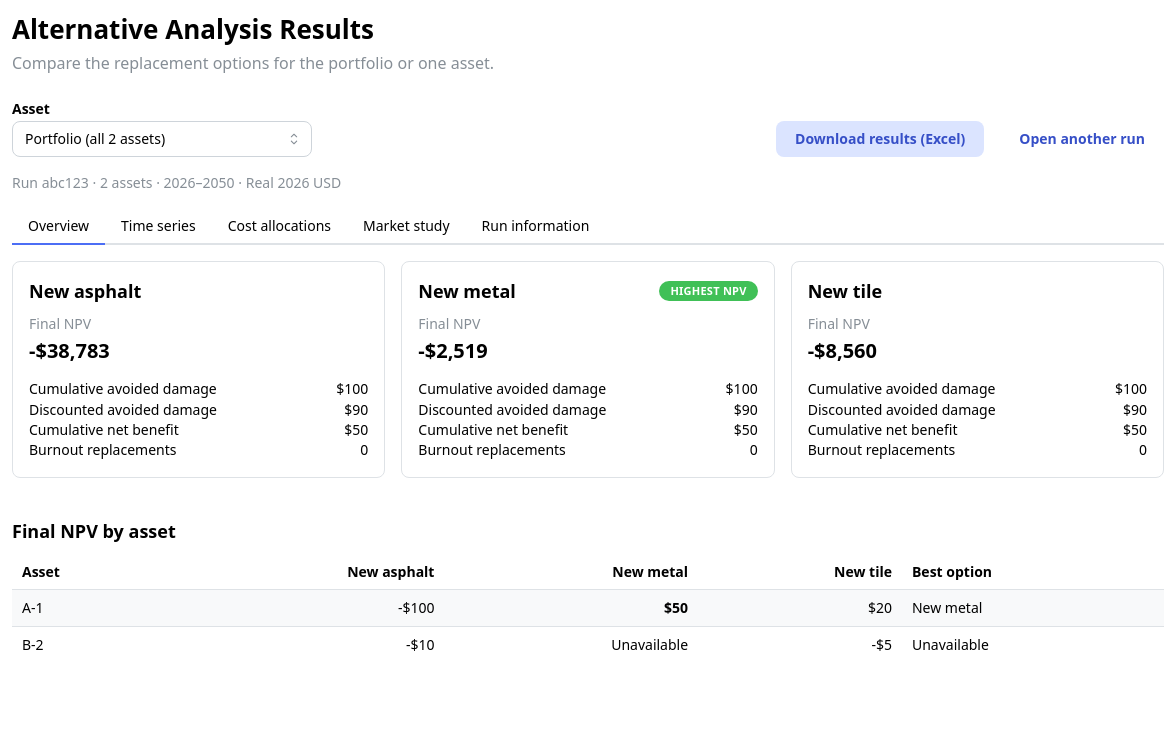
Test: ResultsPage with a run open › loads the first year of cost allocations for the portfolio
What coordinates should you click on to do the following:
click the tab "Cost allocations"
I would click on:
 (279, 227)
Its box is [212, 209, 347, 245].
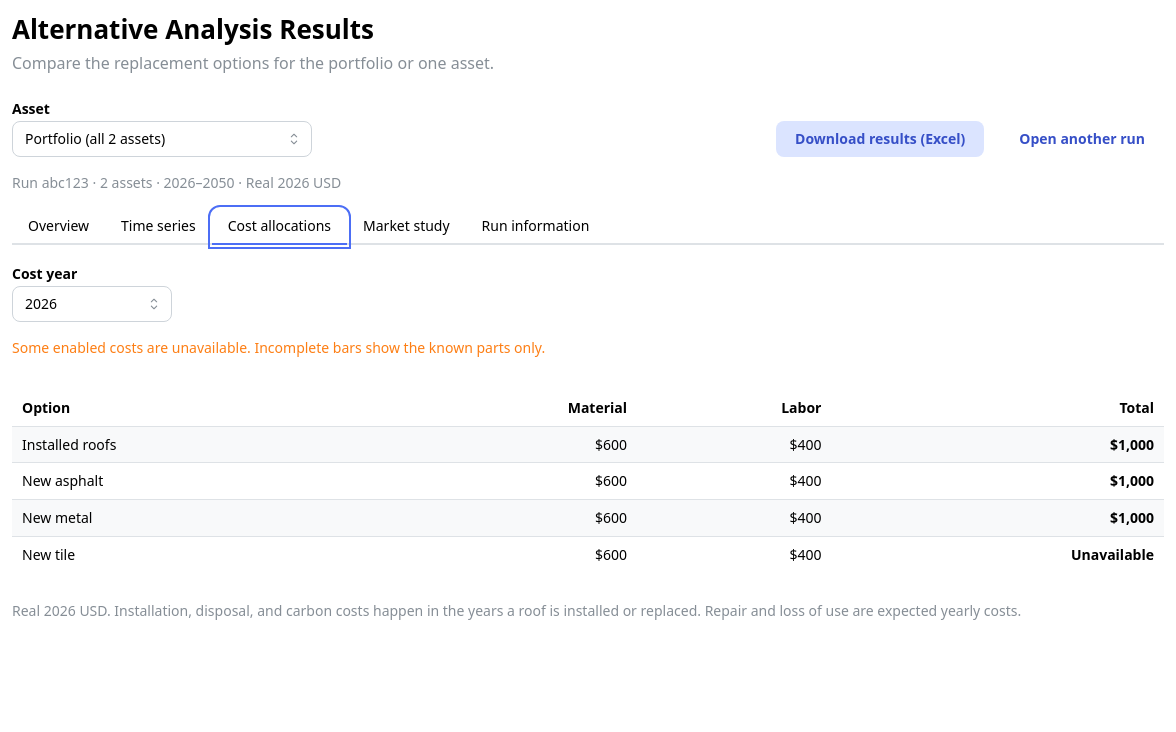
Check: the text "$1,000" is shown 3 times, box [832, 426, 1164, 463]; [832, 463, 1164, 500]; [832, 500, 1164, 536]
Check: the text "Some enabled costs are unavailable" is shown, box [12, 338, 545, 357]
